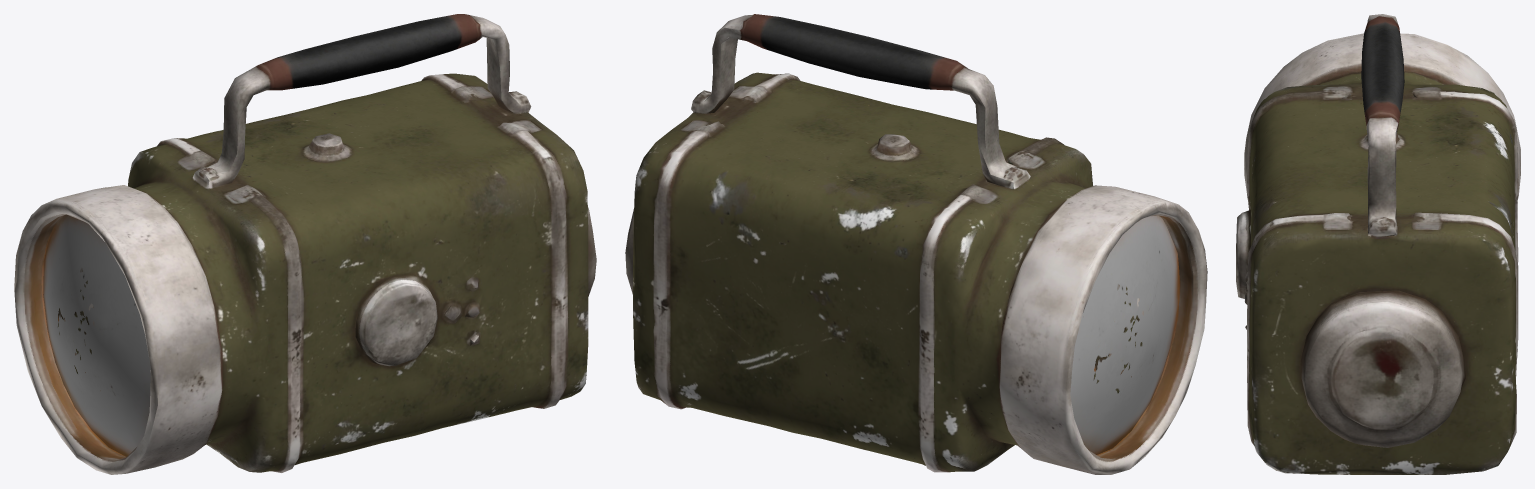
Rendered from alte_lampe.glb.
3 views of the same model, side by side, from view 1: azimuth 30°, elevation 25°; view 2: azimuth 150°, elevation 25°; view 3: azimuth 270°, elevation 25° (orthographic). The views are drawn at different scales.
Parts seen in each view (by area): view 1: world; view 2: world; view 3: world.
Boxes of the visible parts, left/top/right/bottom form: world: left=14, top=14, right=596, bottom=474; world: left=625, top=14, right=1207, bottom=474; world: left=1236, top=14, right=1520, bottom=474.
Bounding box in the file's own units: 1 × 0.7248 × 0.5326.
Materials: 1 (1 with a texture image).
